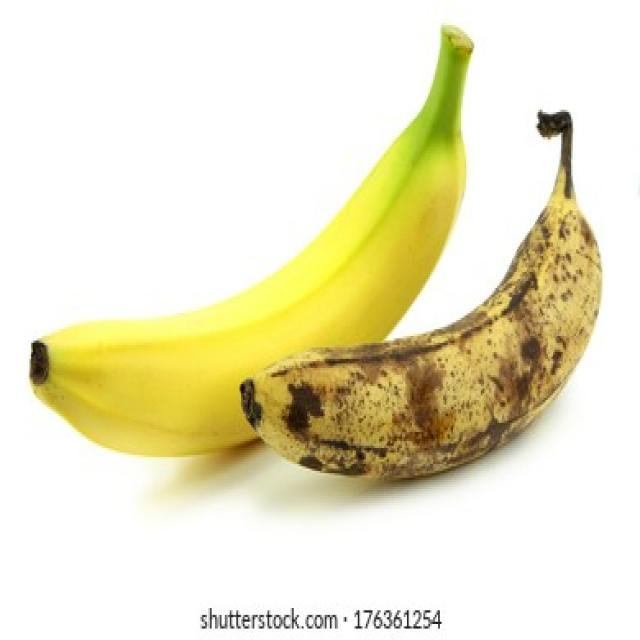Banana: (34, 23, 470, 457), (245, 116, 618, 490)
